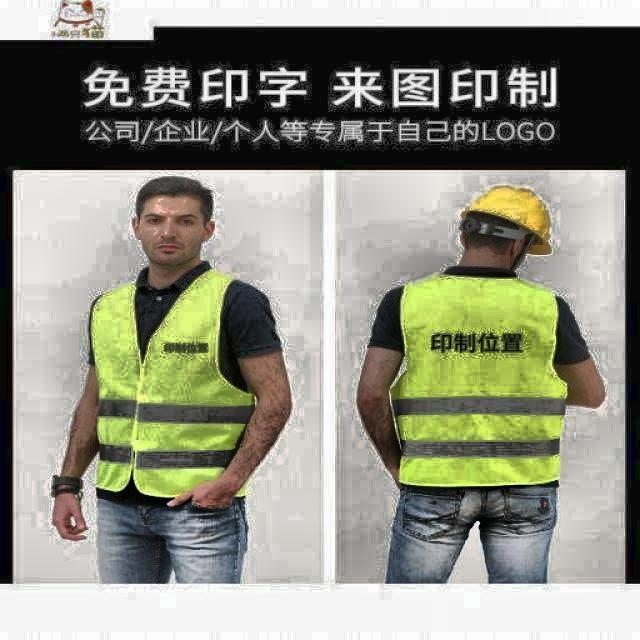safety_helmet: (457, 182, 551, 257)
safety_jacket: (86, 264, 258, 506), (388, 272, 566, 493)
